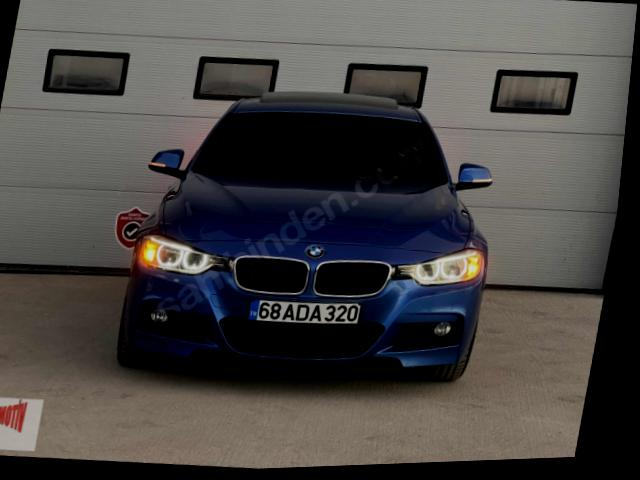plaka: (249, 299, 360, 323)
